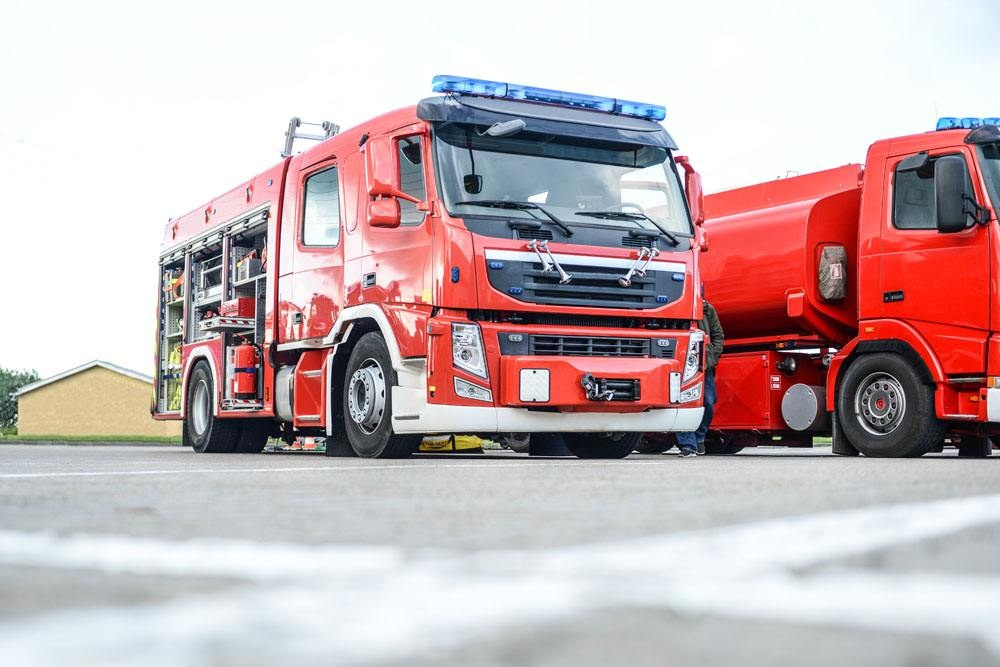fire engine: (139, 82, 708, 460)
